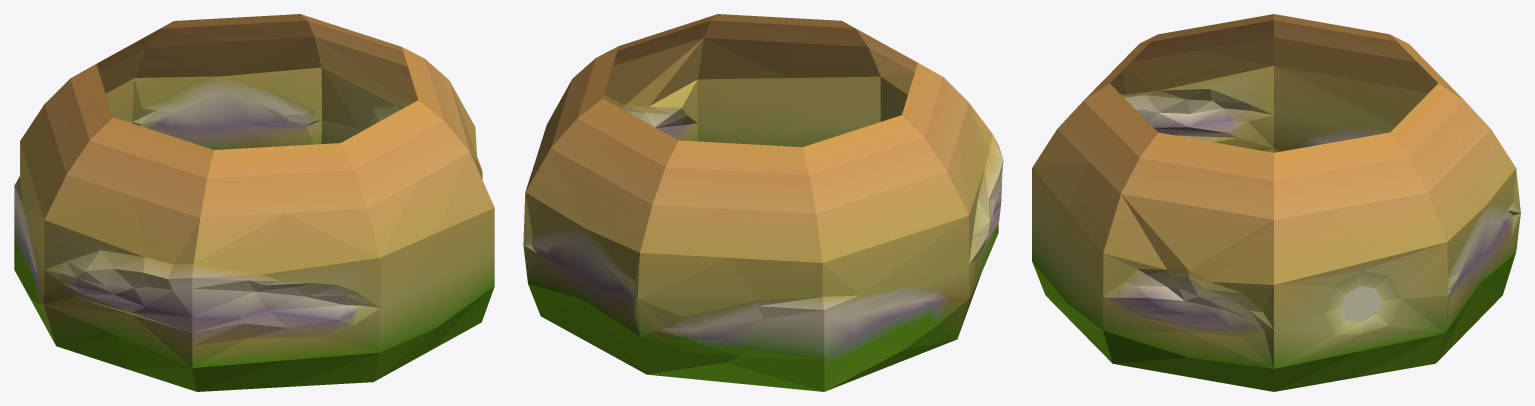
File: data_sky.obj
The picture shows the model from 3 angles, left to right: view 1: azimuth 30°, elevation 25°; view 2: azimuth 150°, elevation 25°; view 3: azimuth 270°, elevation 25°; orthographic projection. The views are drawn at different scales.
Bounding box in the file's own units: 11.34 × 5.4 × 11.29.
